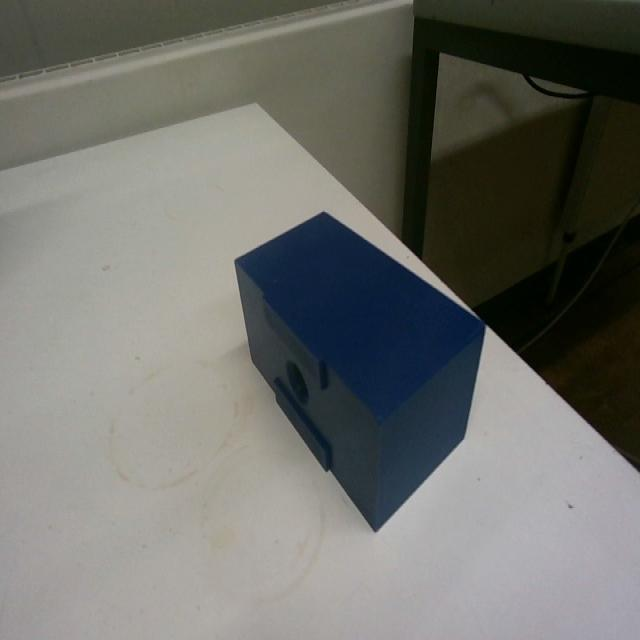Blue Cuboid: (231, 205, 487, 532)
